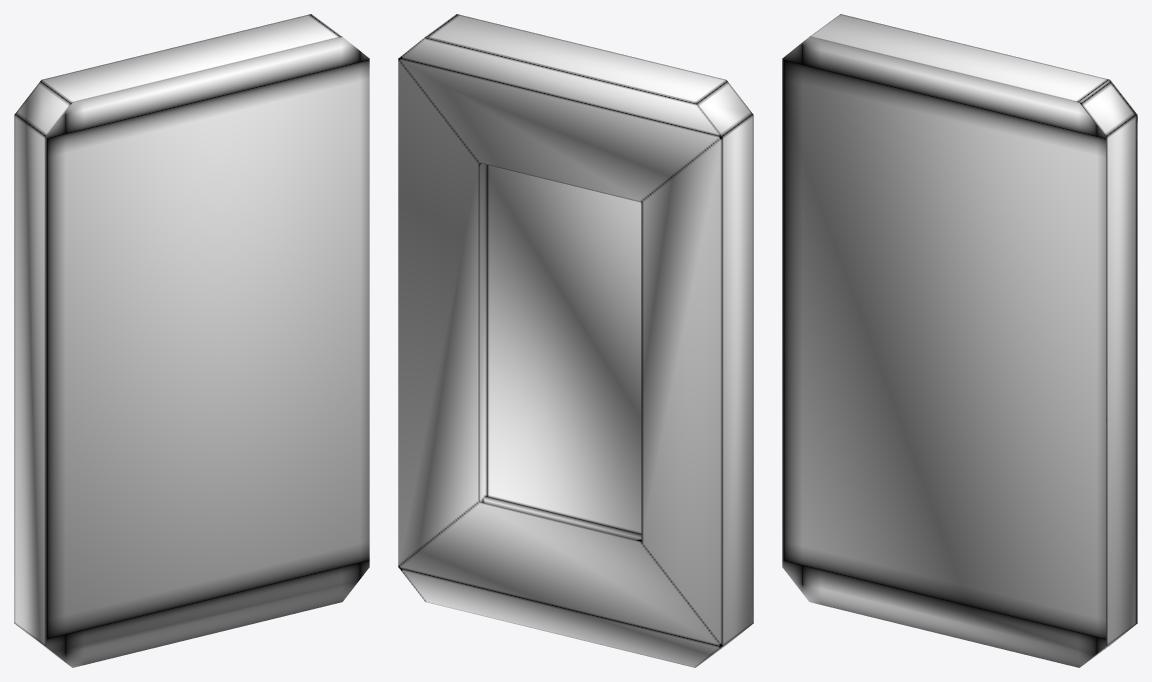
The model's file is switch1_core.obj.
3 renders of one model, left to right at view 1: azimuth 30°, elevation 25°; view 2: azimuth 150°, elevation 25°; view 3: azimuth 330°, elevation 25°, orthographic.
Visible parts, largest first — view 1: cube1; view 2: cube1; view 3: cube1.
Boxes of the visible parts, x1,y1,x2,y2 form: cube1: (14,14,369,667); cube1: (398,14,753,667); cube1: (782,14,1137,667).
Bounding box in the file's own units: 0.6 × 1 × 0.1.
1 material, 1 textured.
